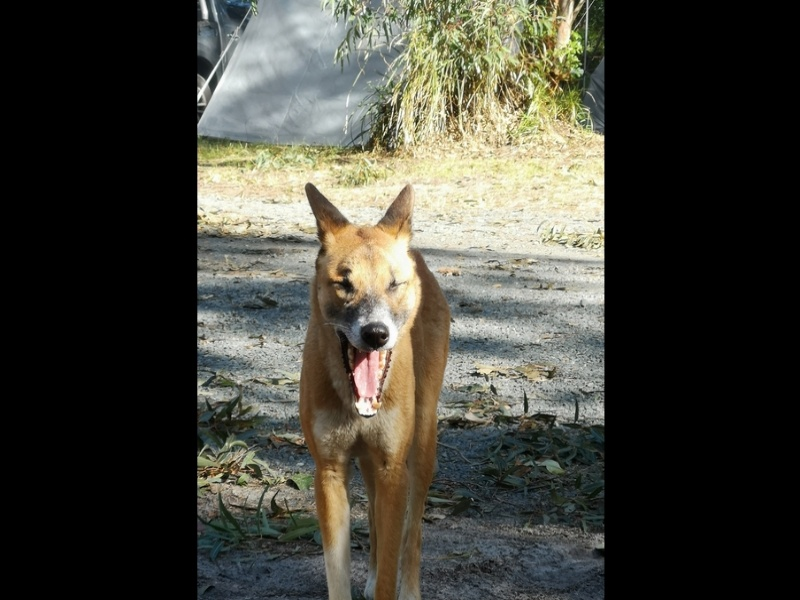dog: (282, 178, 458, 599)
